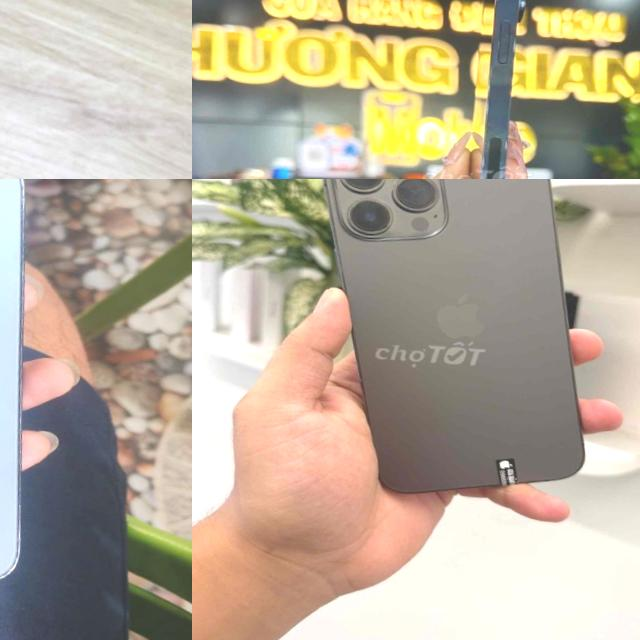gen_12_13: (293, 179, 610, 512), (0, 179, 53, 594), (457, 0, 537, 179)
gen_14: (93, 79, 192, 179)
